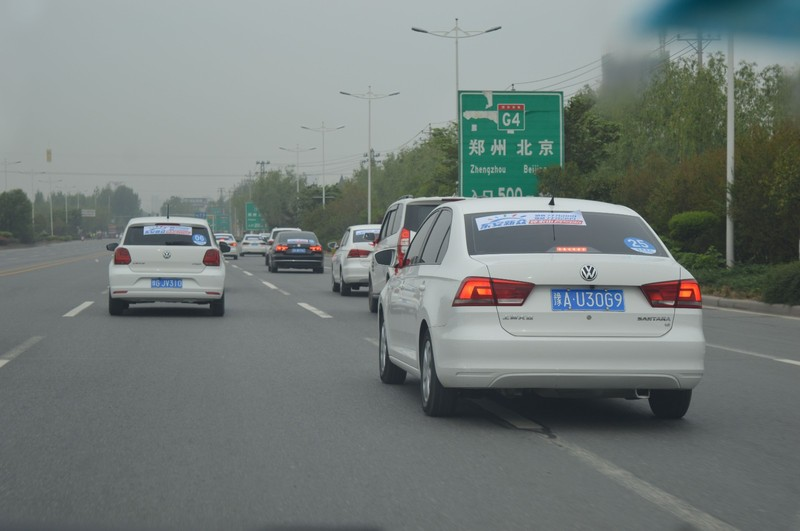car: (357, 194, 707, 424), (95, 213, 232, 315), (334, 217, 412, 294), (266, 222, 321, 281)
